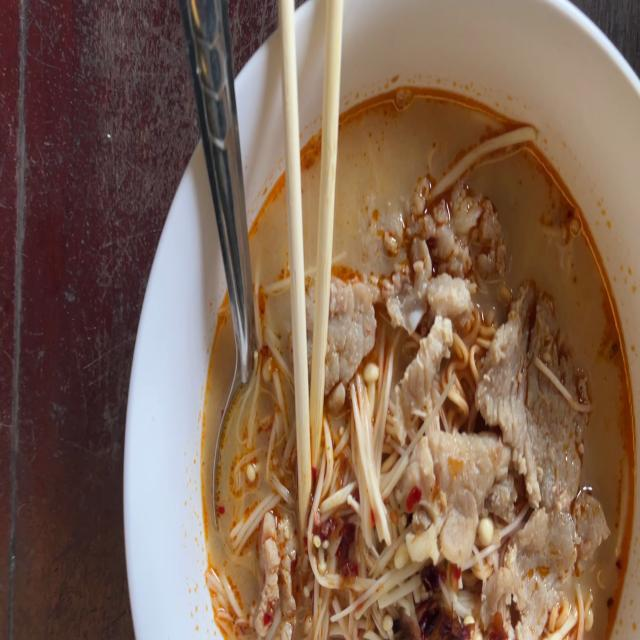noodle: (196, 70, 638, 640)
